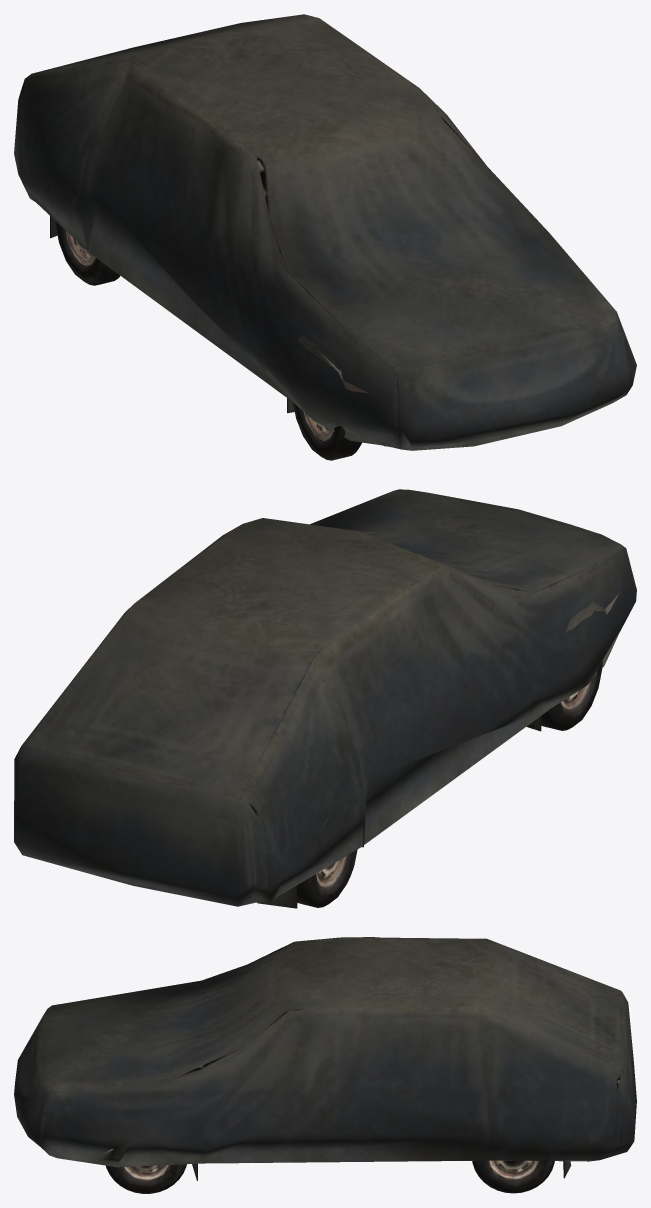
Rendered from covered_car.glb.
The picture shows the model from 3 angles, top to bottom: view 1: azimuth 30°, elevation 25°; view 2: azimuth 150°, elevation 25°; view 3: azimuth 270°, elevation 25°; orthographic projection. The views are drawn at different scales.
Parts seen in each view (by area): view 1: covered_car, covered_car_wheel_02, covered_car_wheel_03; view 2: covered_car, covered_car_wheel_03, covered_car_wheel_02; view 3: covered_car, covered_car_wheel_04, covered_car_wheel_01.
Boxes of the visible parts, bbox=[...] form: covered_car: bbox=[14, 14, 636, 450]; covered_car_wheel_02: bbox=[293, 402, 361, 460]; covered_car_wheel_03: bbox=[55, 221, 120, 285]; covered_car: bbox=[14, 489, 636, 908]; covered_car_wheel_03: bbox=[297, 849, 357, 907]; covered_car_wheel_02: bbox=[541, 659, 602, 730]; covered_car: bbox=[14, 937, 636, 1180]; covered_car_wheel_04: bbox=[472, 1159, 554, 1193]; covered_car_wheel_01: bbox=[106, 1164, 186, 1193].
Size of the model in its own units: 1.79 by 1.41 by 4.38.
Materials: 5 (5 with a texture image).
